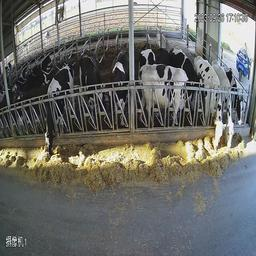cow: (139, 62, 194, 139), (37, 61, 77, 159), (80, 44, 116, 151), (194, 53, 226, 155), (112, 31, 139, 143), (165, 35, 201, 103), (211, 55, 239, 137), (228, 61, 251, 144)
